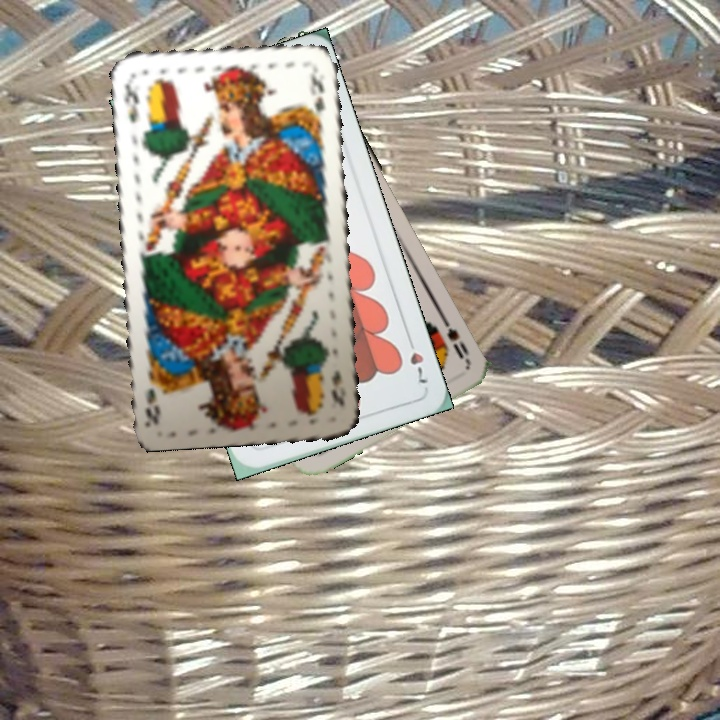EK: (120, 76, 143, 126), (327, 366, 349, 410)
H7: (403, 332, 431, 388)
SO: (436, 309, 472, 364)
